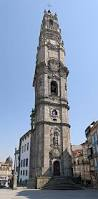clerigos: (30, 2, 73, 176)
